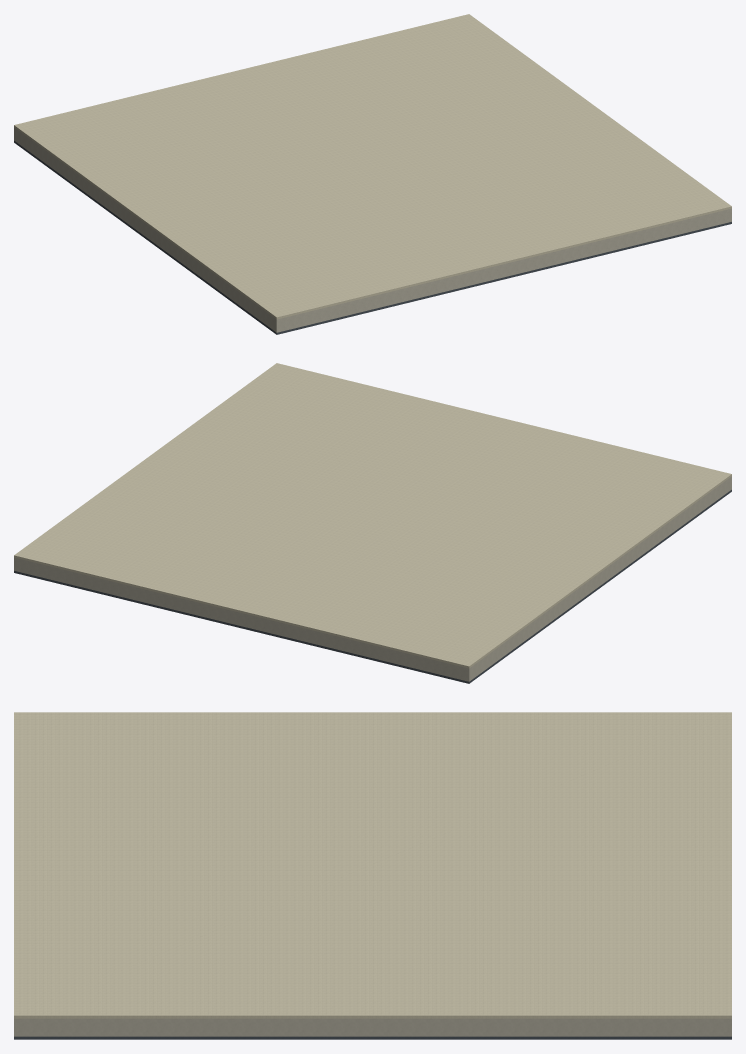
File: level4_shell.obj
The picture shows the model from 3 angles, top to bottom: view 1: azimuth 30°, elevation 25°; view 2: azimuth 150°, elevation 25°; view 3: azimuth 270°, elevation 25°; orthographic projection. The views are drawn at different scales.
Bounding box in the file's own units: 112 × 4.1 × 112.
Materials: 3 (3 with a texture image).
